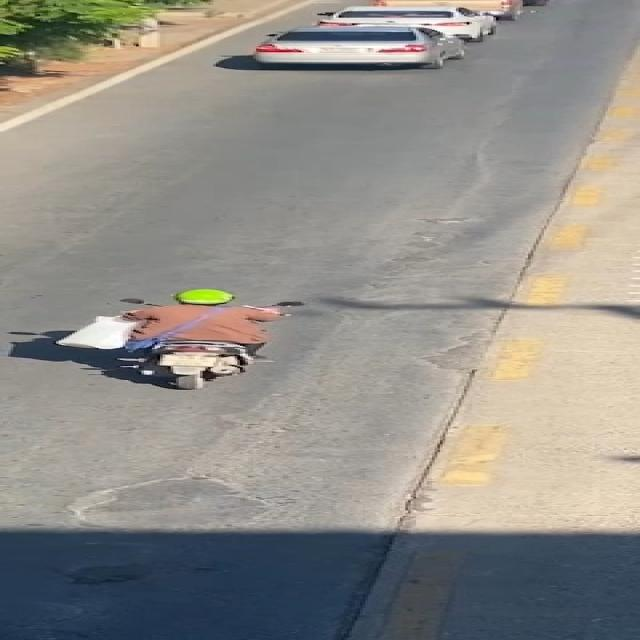car: (244, 27, 476, 70), (299, 0, 520, 43)
